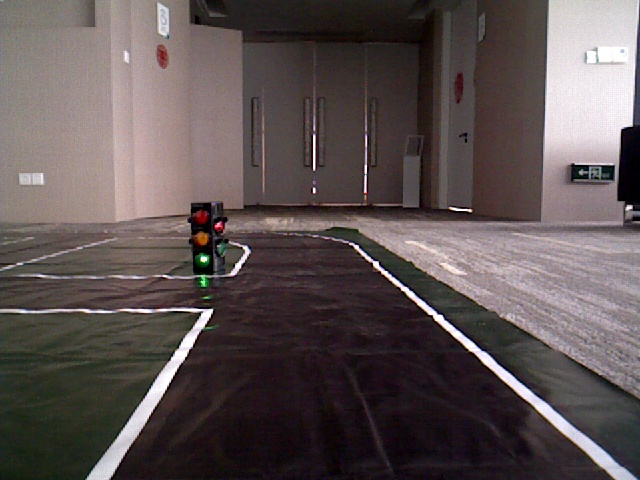green: (190, 207, 214, 267)
